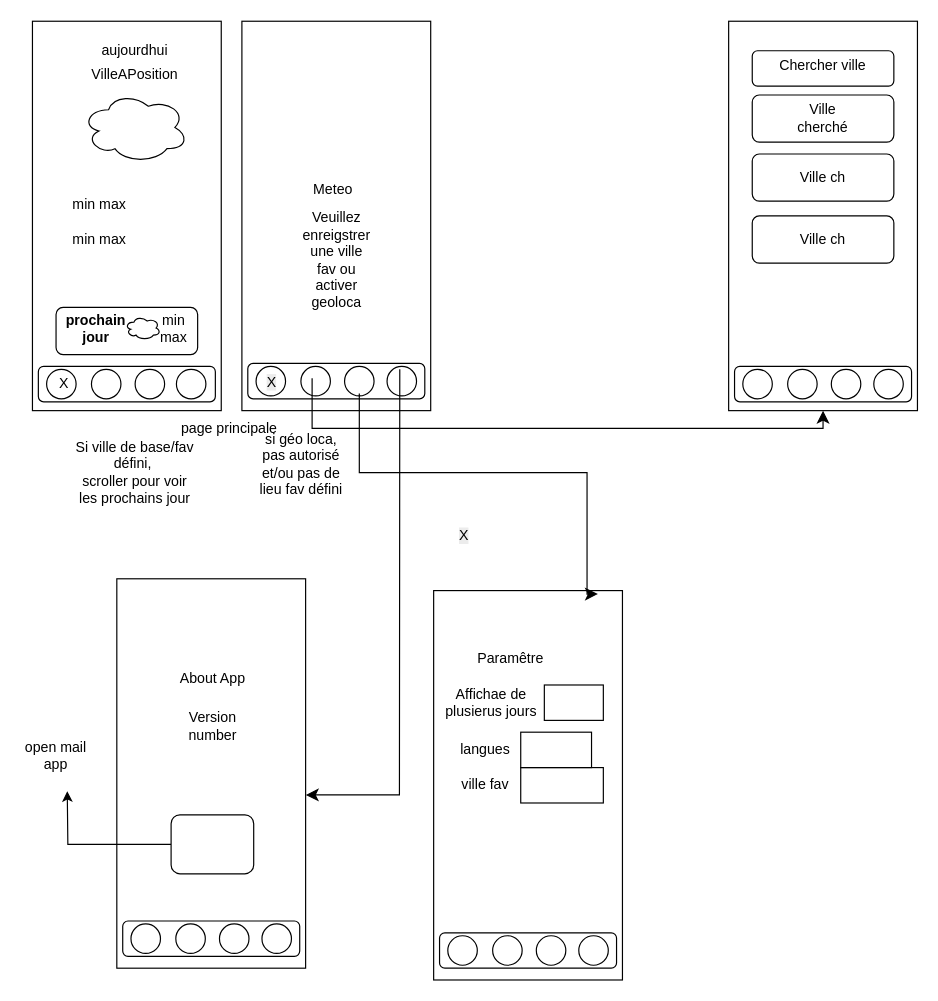
This 938x1001 diagram has some shape labels left out. Here are the shapes that lost their labels. From the top down, the box of each, then its label:
(81, 91, 188, 163): symbole meteo
(170, 814, 254, 874): send feedback
